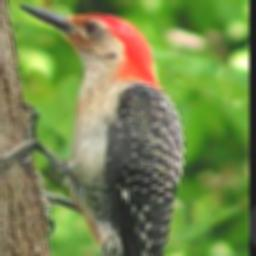Woodpecker: (0, 3, 188, 256)
